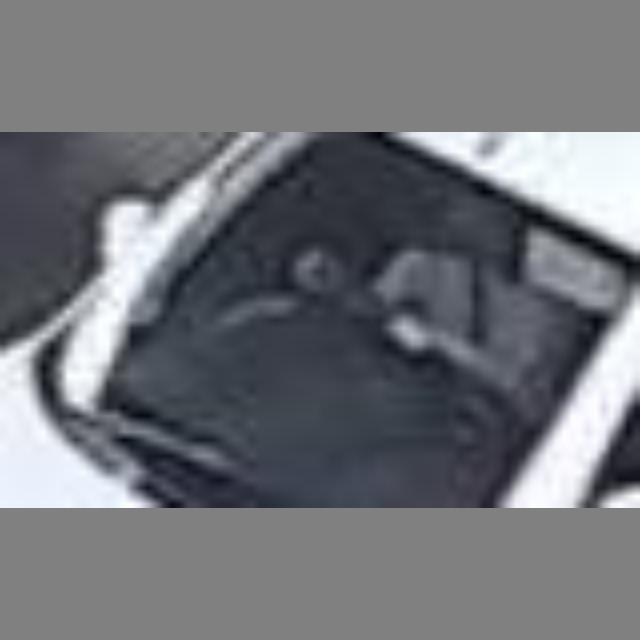pakai: (320, 220, 568, 436)
